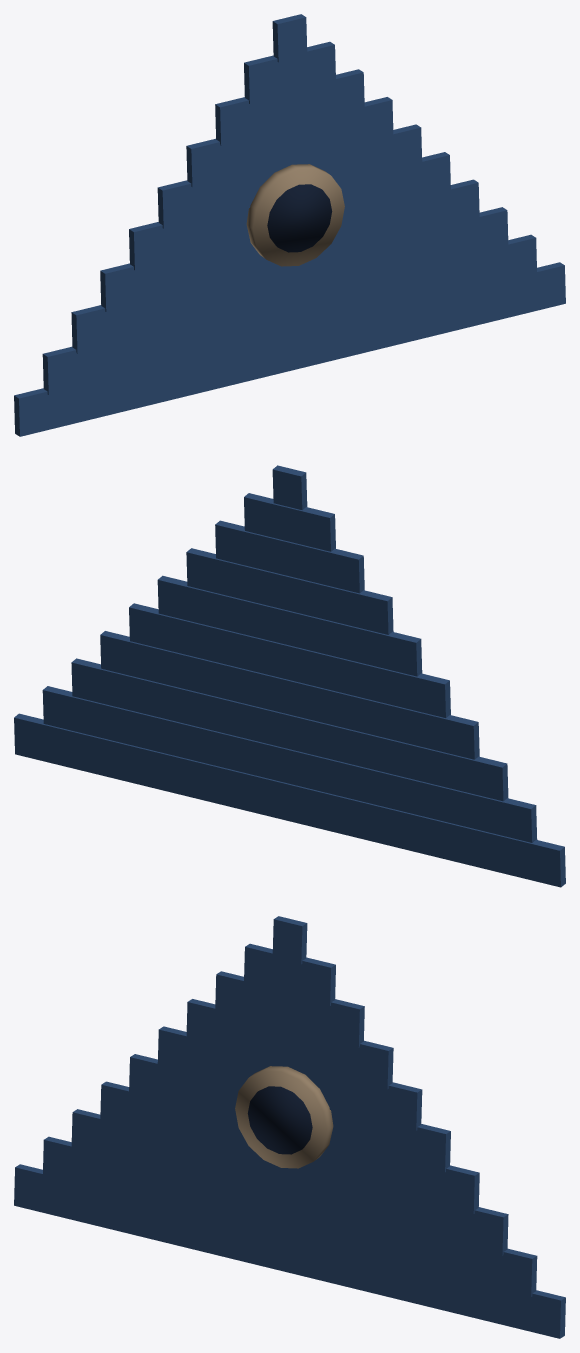
File: kit_clapboard_gable_w2.glb
3 renders of one model, top to bottom at view 1: azimuth 30°, elevation 25°; view 2: azimuth 150°, elevation 25°; view 3: azimuth 330°, elevation 25°, orthographic.
Parts seen in each view (by area): view 1: kit_clapboard_gable_w2; view 2: kit_clapboard_gable_w2; view 3: kit_clapboard_gable_w2.
Boxes of the visible parts, x1,y1,x2,y2 form: kit_clapboard_gable_w2: (14, 14, 565, 436); kit_clapboard_gable_w2: (14, 465, 565, 887); kit_clapboard_gable_w2: (14, 916, 565, 1338).
Size of the model in its own units: 1.9 by 1.16 by 0.0823.
